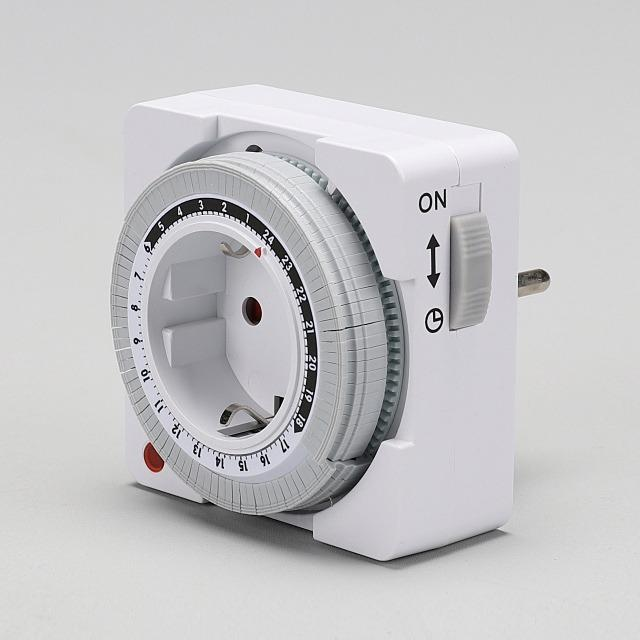typeb: (93, 123, 461, 532)
